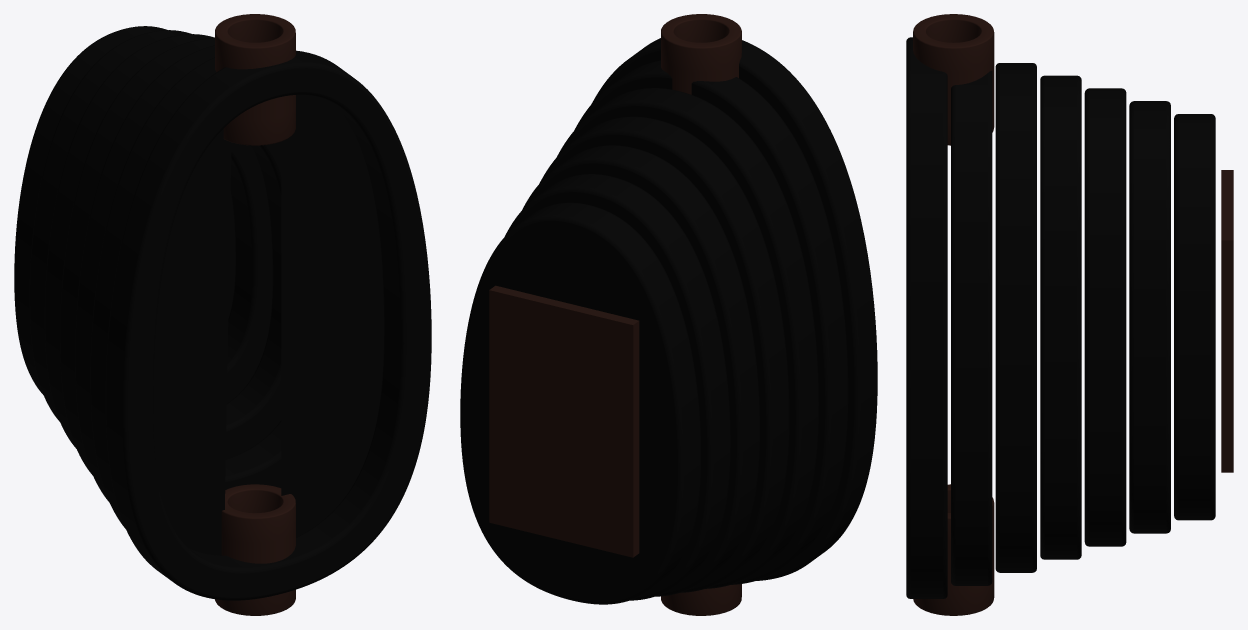
Rendered from SteppedCove+Holes.fbx.
The picture shows the model from 3 angles, left to right: view 1: azimuth 30°, elevation 25°; view 2: azimuth 150°, elevation 25°; view 3: azimuth 270°, elevation 25°; orthographic projection.
Visible parts, largest first — view 1: Steps, Top_Tube, Bottom_Tube; view 2: Steps, BackPlate, Top_Tube, Bottom_Tube; view 3: Steps, Top_Tube, BackPlate, Bottom_Tube.
Part boxes in pixels (x1,y1,x2,y2): Steps: (14, 26, 431, 600); Top_Tube: (215, 14, 295, 145); Bottom_Tube: (215, 484, 295, 615); Steps: (460, 38, 877, 604); BackPlate: (489, 285, 639, 557); Top_Tube: (661, 14, 741, 94); Bottom_Tube: (661, 584, 741, 615); Steps: (906, 37, 1215, 598); Top_Tube: (913, 14, 994, 145); BackPlate: (1221, 170, 1233, 472); Bottom_Tube: (913, 484, 994, 615).
Bounding box in the file's own units: 35.9 × 63.23 × 33.01.
